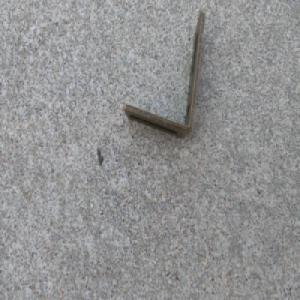MetalPart: (123, 12, 207, 142)
